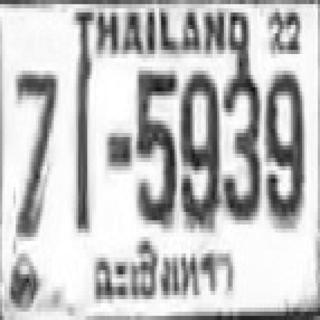N03: (222, 66, 260, 216)
N05: (134, 64, 175, 222)
N07: (14, 66, 56, 233)
N09: (180, 66, 218, 225), (264, 67, 302, 220)
P07: (91, 236, 241, 304)
